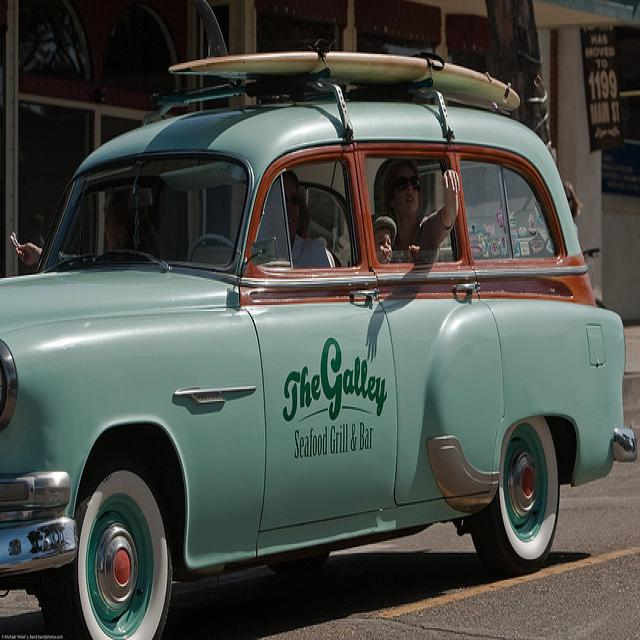Vehicle: (0, 80, 640, 633)
